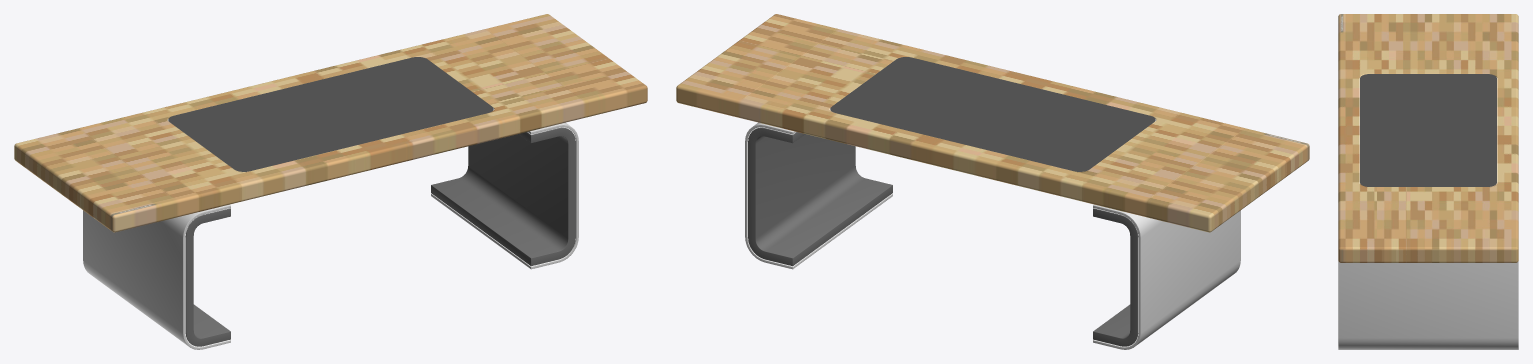
3 views of the same model, side by side, from view 1: azimuth 30°, elevation 25°; view 2: azimuth 150°, elevation 25°; view 3: azimuth 270°, elevation 25° (orthographic). The views are drawn at different scales.
Visible parts, largest first — view 1: board, plane, leg-in, leg-out; view 2: board, plane, leg-in, leg-out; view 3: board, leg-out, plane, gap.
Boxes of the visible parts, left/top/right/bottom form: board: left=14, top=14, right=647, bottom=232; plane: left=168, top=57, right=493, bottom=171; leg-in: left=185, top=127, right=575, bottom=346; leg-out: left=83, top=122, right=578, bottom=349; board: left=676, top=14, right=1309, bottom=232; plane: left=830, top=57, right=1155, bottom=171; leg-in: left=748, top=127, right=1138, bottom=346; leg-out: left=745, top=122, right=1240, bottom=349; board: left=1338, top=14, right=1518, bottom=262; leg-out: left=1338, top=261, right=1518, bottom=349; plane: left=1360, top=74, right=1496, bottom=186; gap: left=1359, top=77, right=1497, bottom=183.
Size of the model in its own units: 2.46 by 0.6814 by 0.7984.
Materials: 5 (1 with a texture image).
